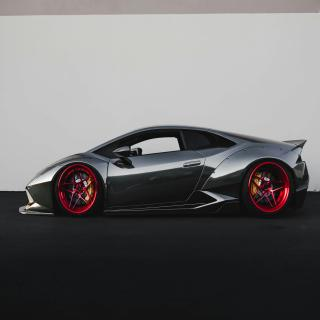Normal_vehicle: (18, 122, 312, 222)
